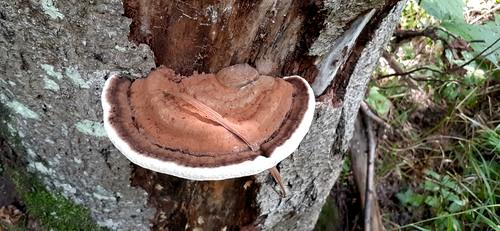Ganoderma - Fruit Body: (103, 66, 318, 183)
